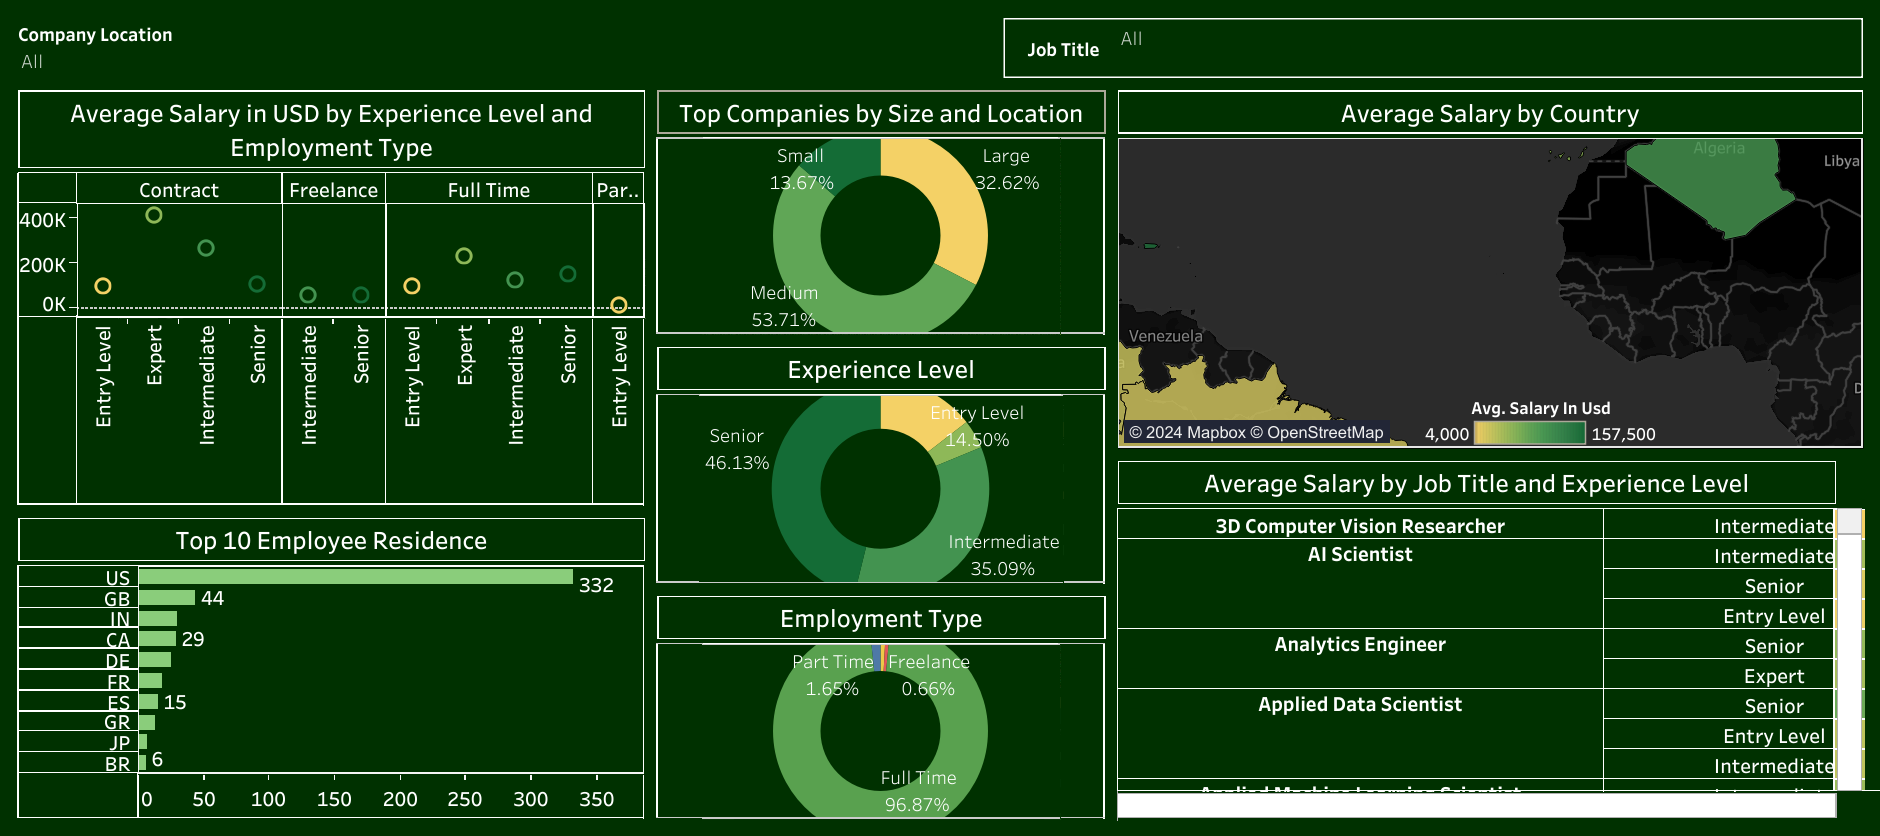

The dashboard page shown, as its layout file describes it:
{"tool":"tableau","page":{"name":"Dashboard 1","canvas":[1000,1000],"units":"permille","ordinal":0},"visuals":[{"type":"filter","title":"Top Companies by Size and Location","param":"[federated.1qmvd6a1dktyej1g4fmgl0tdm4ps].[none:company_location:nk]","box":[5,9.2,525.8,86.6]},{"type":"filter","title":"Average Salary by Country","param":"[federated.1qmvd6a1dktyej1g4fmgl0tdm4ps].[none:job_title:nk]","box":[530.7,9.2,464.3,86.6]},{"type":"worksheet","title":"Average Salary in USD by Experience Level and Employment Type","mark":"Shape","rows":["salary_in_usd"],"cols":["employment_type","experience_level"],"box":[5,95.8,340.9,516.1]},{"type":"worksheet","title":"Top Companies by Size and Location","mark":"Pie","rows":["Calculation_203787926673596417","Calculation_203787926673596417"],"box":[345.9,95.8,245,310.6]},{"type":"worksheet","title":"Average Salary by Country","mark":"Automatic","box":[591,95.8,404,447.4]},{"type":"worksheet","title":"Experience Level","mark":"Pie","rows":["Calculation_203787926673596417","Calculation_203787926673596417"],"box":[345.9,406.4,245,300.2]},{"type":"legend","title":"Average Salary by Country","param":"[federated.1qmvd6a1dktyej1g4fmgl0tdm4ps].[avg:salary_in_usd:qk]","box":[754.4,465.4,129.7,69.3]},{"type":"worksheet","title":"Average Salary by Job Title and Experience Level","mark":"Square","rows":["job_title","experience_level"],"box":[591,543.2,404,447.6]},{"type":"worksheet","title":"Top 10 Employee Residence","mark":"Automatic","rows":["employee_residence"],"cols":["employee_residence"],"box":[5,611.9,340.9,378.8]},{"type":"worksheet","title":"Employment Type","mark":"Pie","rows":["Calculation_203787926673596417","Calculation_203787926673596417"],"box":[345.9,706.6,245,284.1]}]}

Visuals, with their boxes on the dashboard's canvas, which has no fixed pixel size, in thousandths of its width and height (x1, y1, x2, y2). These are canvas units, not pixel positions in the 1880x836 screenshot, which may show the page scaled, cropped or inside an application window:
"Top Companies by Size and Location" filter: bbox=[5, 9, 531, 96]
"Average Salary by Country" filter: bbox=[531, 9, 995, 96]
"Average Salary in USD by Experience Level and Employment Type" worksheet (Shape marks): bbox=[5, 96, 346, 612]
"Top Companies by Size and Location" worksheet (Pie marks): bbox=[346, 96, 591, 406]
"Average Salary by Country" worksheet: bbox=[591, 96, 995, 543]
"Experience Level" worksheet (Pie marks): bbox=[346, 406, 591, 707]
"Average Salary by Country" legend: bbox=[754, 465, 884, 535]
"Average Salary by Job Title and Experience Level" worksheet (Square marks): bbox=[591, 543, 995, 991]
"Top 10 Employee Residence" worksheet: bbox=[5, 612, 346, 991]
"Employment Type" worksheet (Pie marks): bbox=[346, 707, 591, 991]
